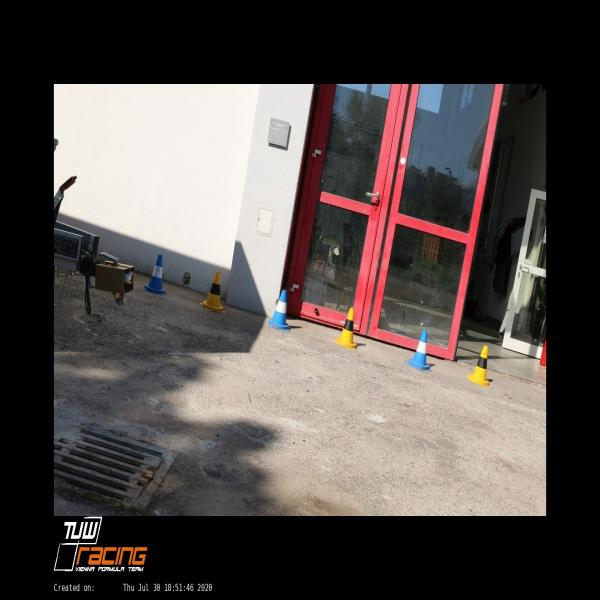blue_cone: (405, 329, 432, 372), (143, 254, 167, 296), (268, 289, 290, 332)
yellow_cone: (466, 345, 491, 389), (200, 271, 226, 313), (334, 306, 357, 350)
